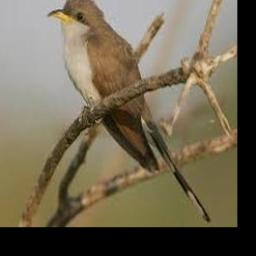Cuckoo: (48, 0, 210, 222)
